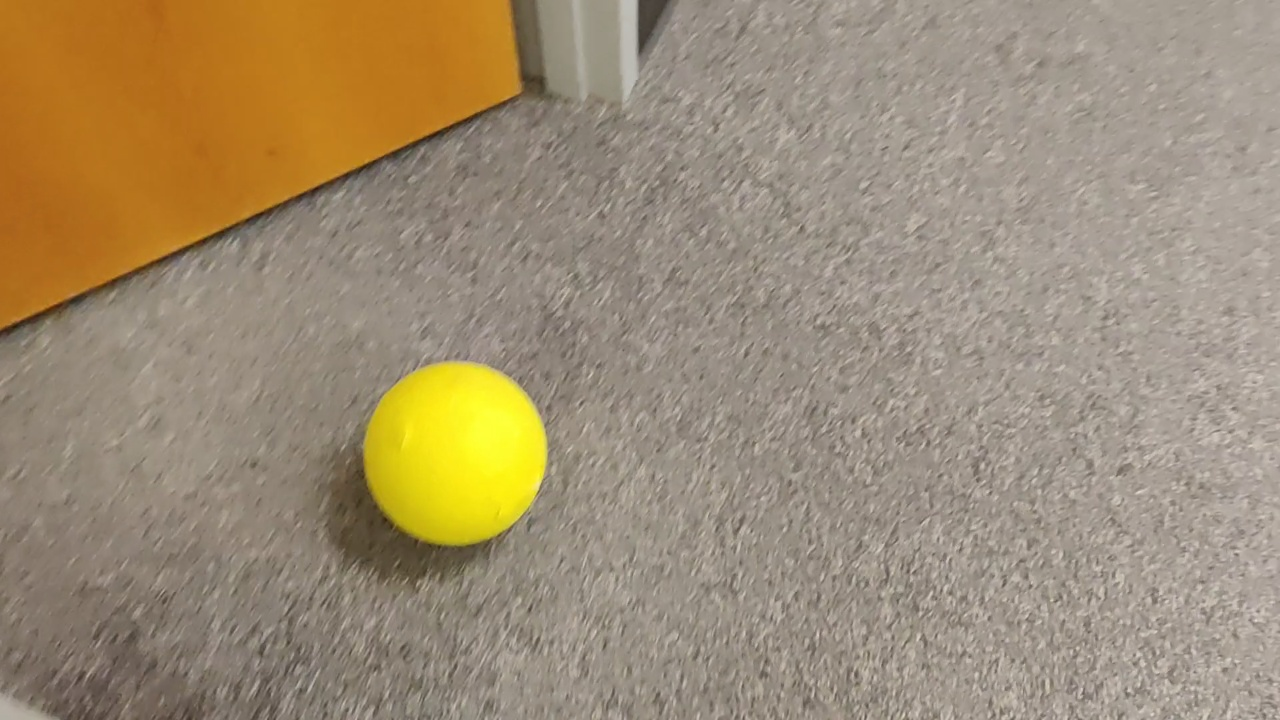Ball: (340, 347, 568, 559)
